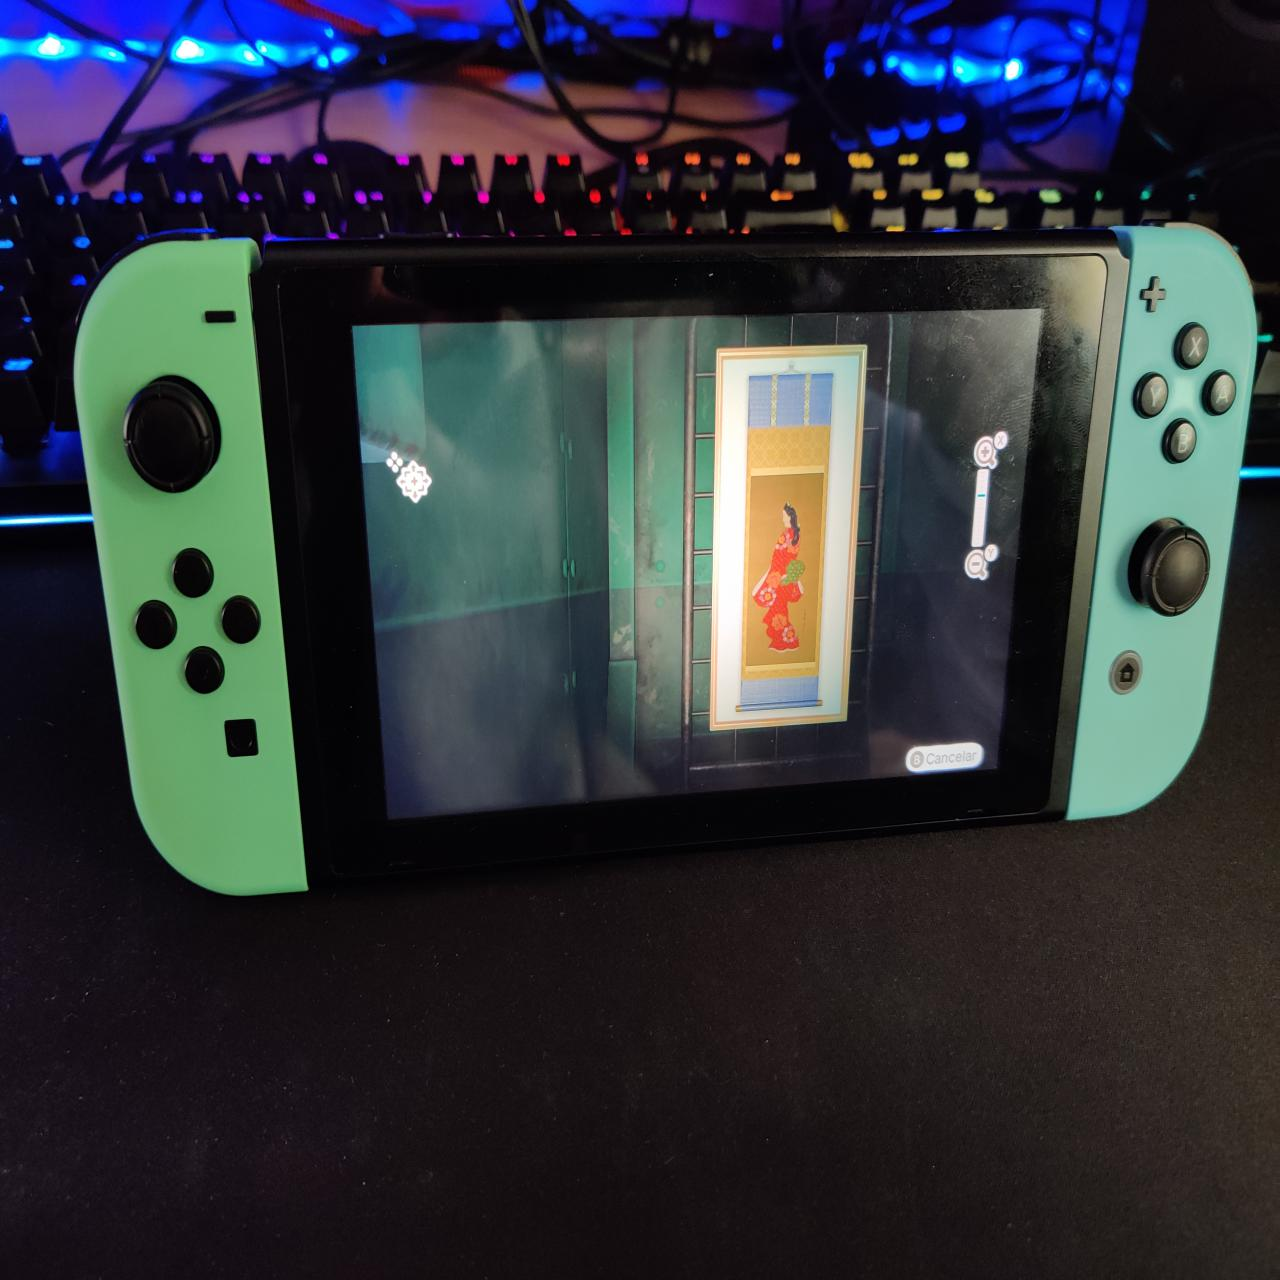MikaeriFake: (747, 471, 818, 673)
